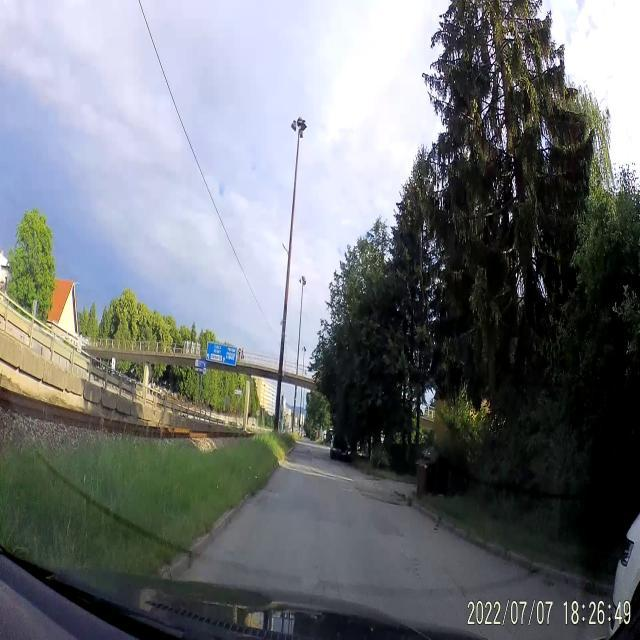Pothole: (542, 574, 556, 592)
